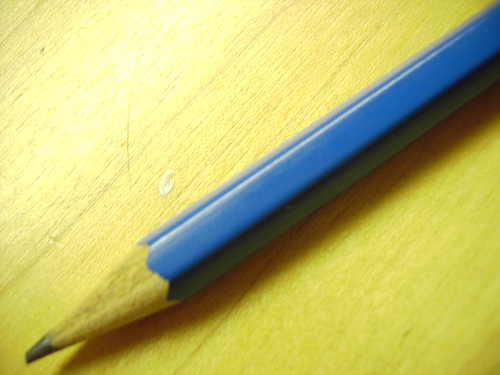pen_tip: (22, 229, 185, 375)
